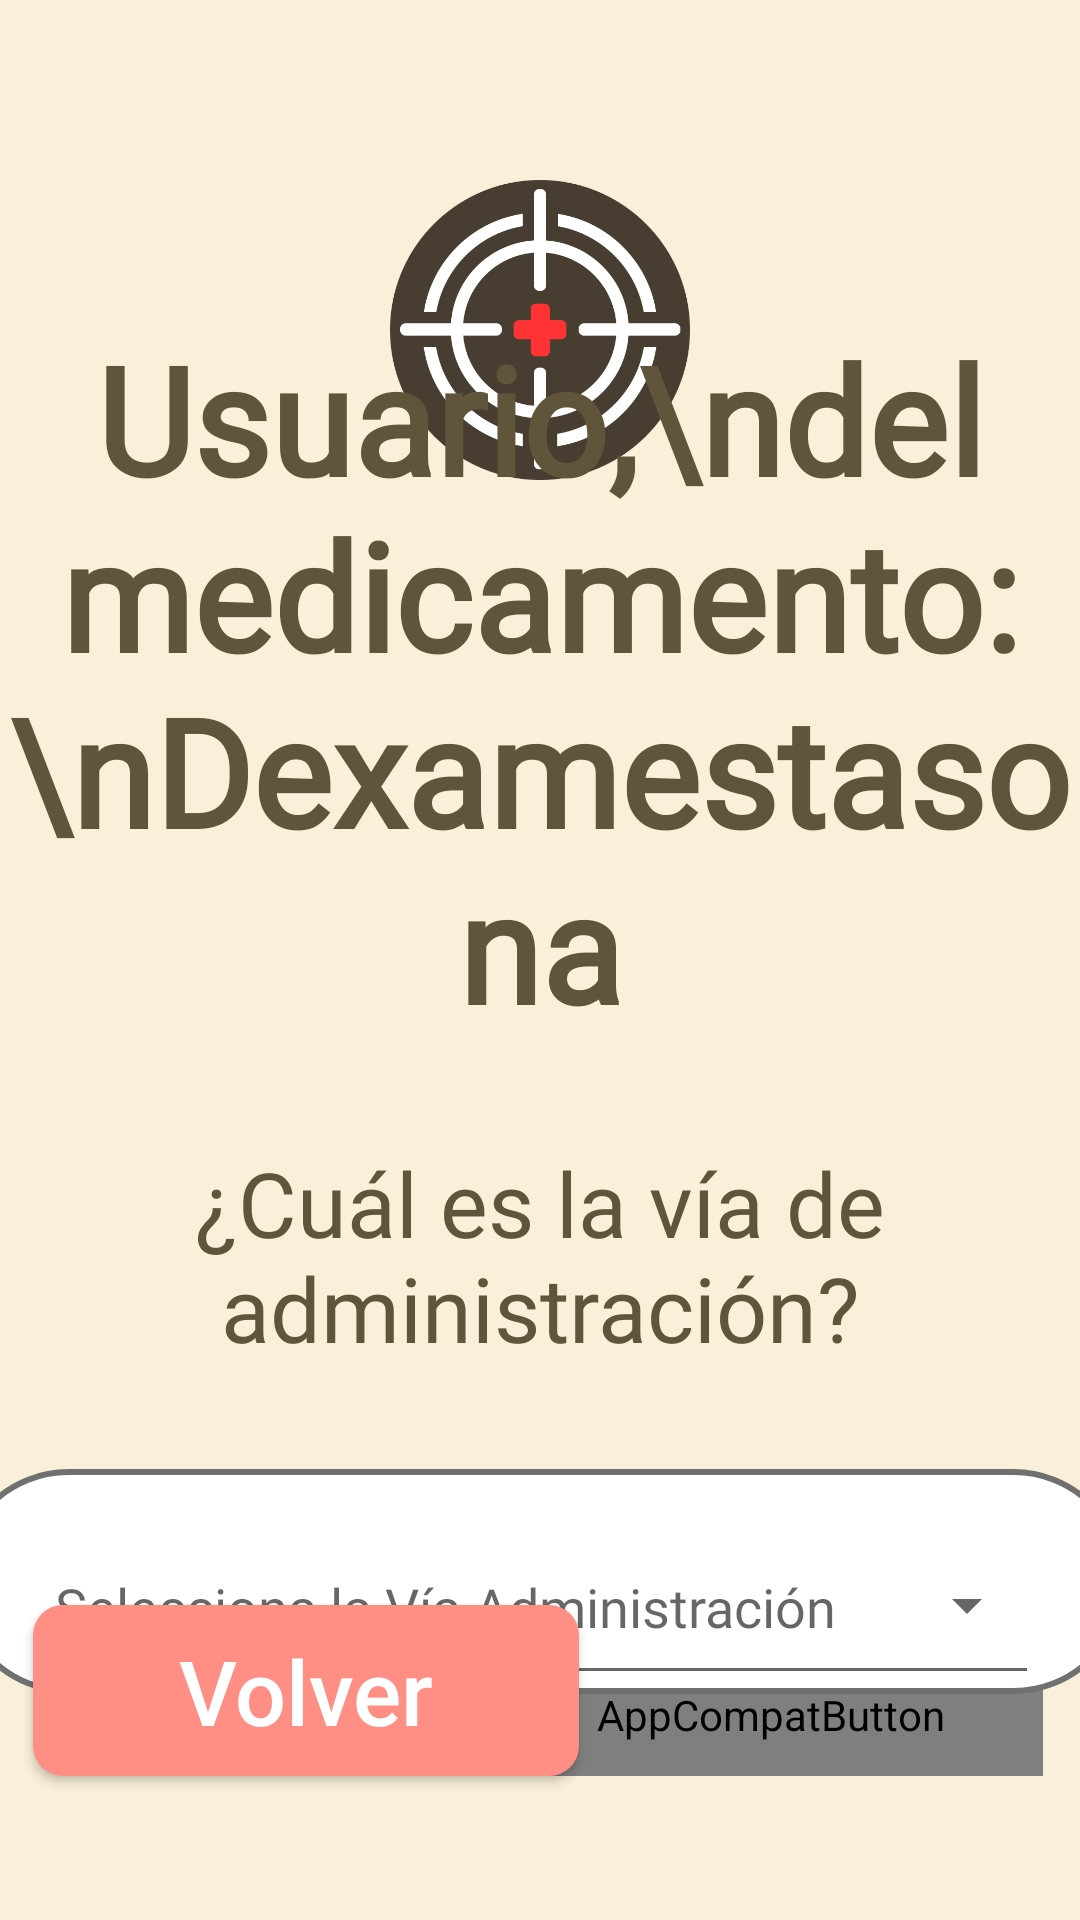

Where icons sit on this 1080×1920 app screen, as box(x1, y1, x2, y2):
Icono Aplicación Mira Roja: box(390, 180, 690, 480)
